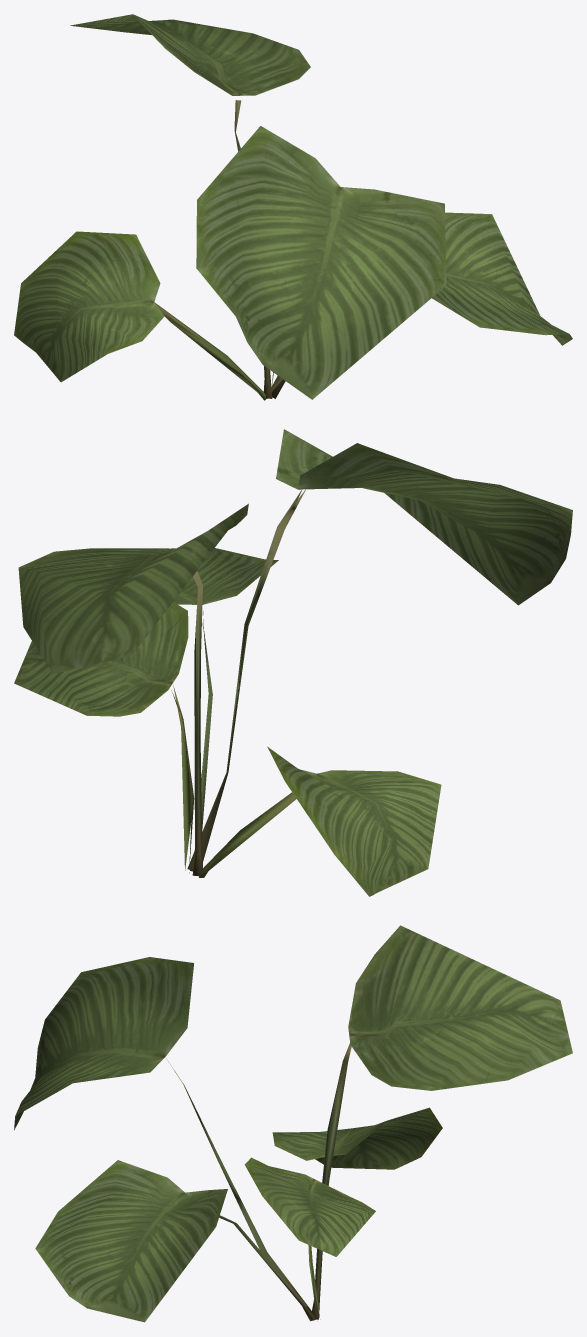
File: Vine a LOD1.fbx
The picture shows the model from 3 angles, top to bottom: view 1: azimuth 30°, elevation 25°; view 2: azimuth 150°, elevation 25°; view 3: azimuth 270°, elevation 25°; orthographic projection. The views are drawn at different scales.
Visible parts, largest first — view 1: calathea_orbifolia_01_b.001; view 2: calathea_orbifolia_01_b.001; view 3: calathea_orbifolia_01_b.001.
Part boxes in pixels (<box>): calathea_orbifolia_01_b.001: <box>14,14,572,400</box>; calathea_orbifolia_01_b.001: <box>14,429,572,896</box>; calathea_orbifolia_01_b.001: <box>14,925,572,1322</box>.
Bounding box in the file's own units: 31.85 × 28.77 × 41.15.
